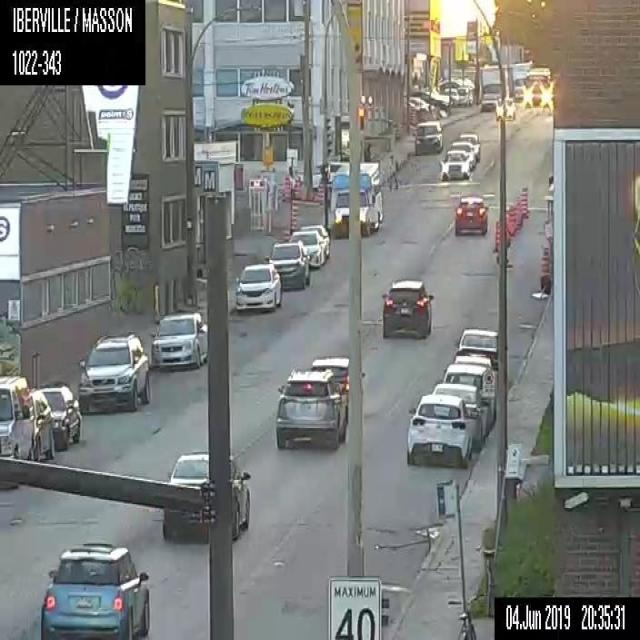construction: (538, 244, 552, 293), (290, 197, 298, 232), (520, 185, 528, 217), (508, 203, 516, 234), (513, 196, 521, 227), (293, 173, 301, 201), (282, 172, 290, 200), (494, 216, 500, 252), (316, 176, 324, 203)
pedestrian: (386, 152, 400, 191)
vehicle: (39, 541, 151, 639), (163, 450, 251, 540), (78, 330, 150, 412), (274, 369, 346, 448), (404, 394, 472, 469), (329, 160, 383, 238), (310, 356, 366, 424), (432, 381, 490, 445), (0, 375, 31, 492), (442, 361, 494, 430), (149, 311, 208, 370), (380, 274, 434, 338), (40, 383, 81, 448), (456, 328, 500, 387), (234, 262, 282, 311), (264, 239, 310, 290), (28, 385, 56, 462), (479, 64, 513, 112), (453, 194, 487, 234), (289, 230, 324, 268), (522, 68, 552, 112), (412, 118, 442, 154), (439, 149, 472, 181), (298, 223, 329, 256), (509, 60, 532, 101), (453, 354, 494, 370), (451, 140, 475, 166), (458, 134, 480, 162), (495, 96, 515, 120), (455, 86, 473, 108)
